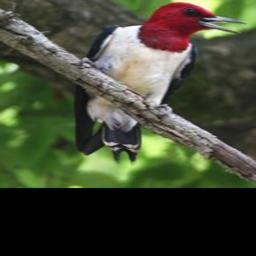Woodpecker: (66, 2, 252, 165)
